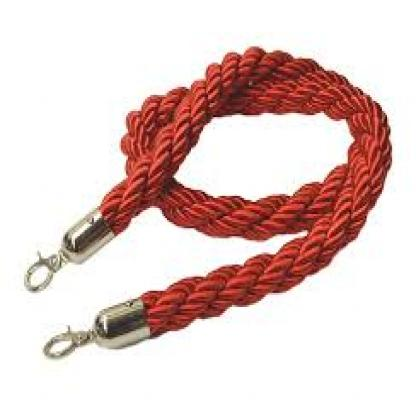Rope: (23, 46, 392, 361)
